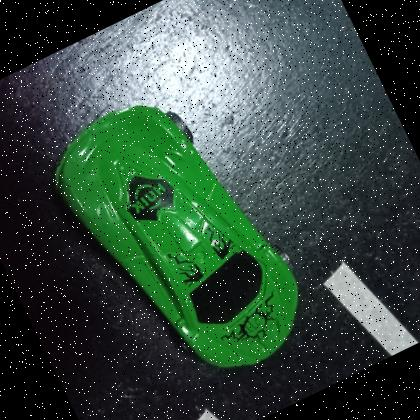Car: (53, 103, 298, 367)
